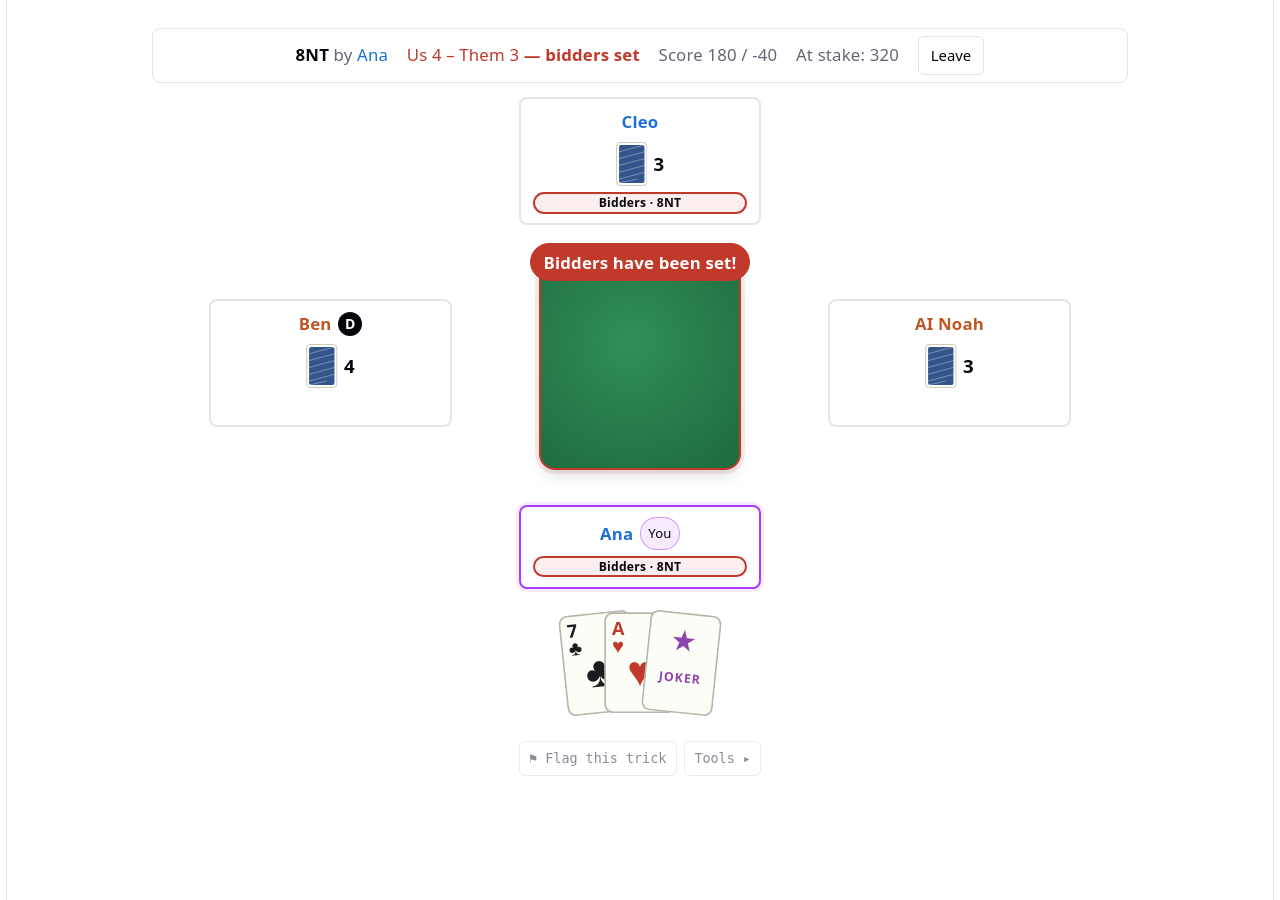
Test: joker lead suit picker (AC-1) › opens on tapping the joker to lead and submits the chosen jokerSuit
Click the button with class "hand-card" showing "★ JOKER": (681, 663) [640,609,722,717]
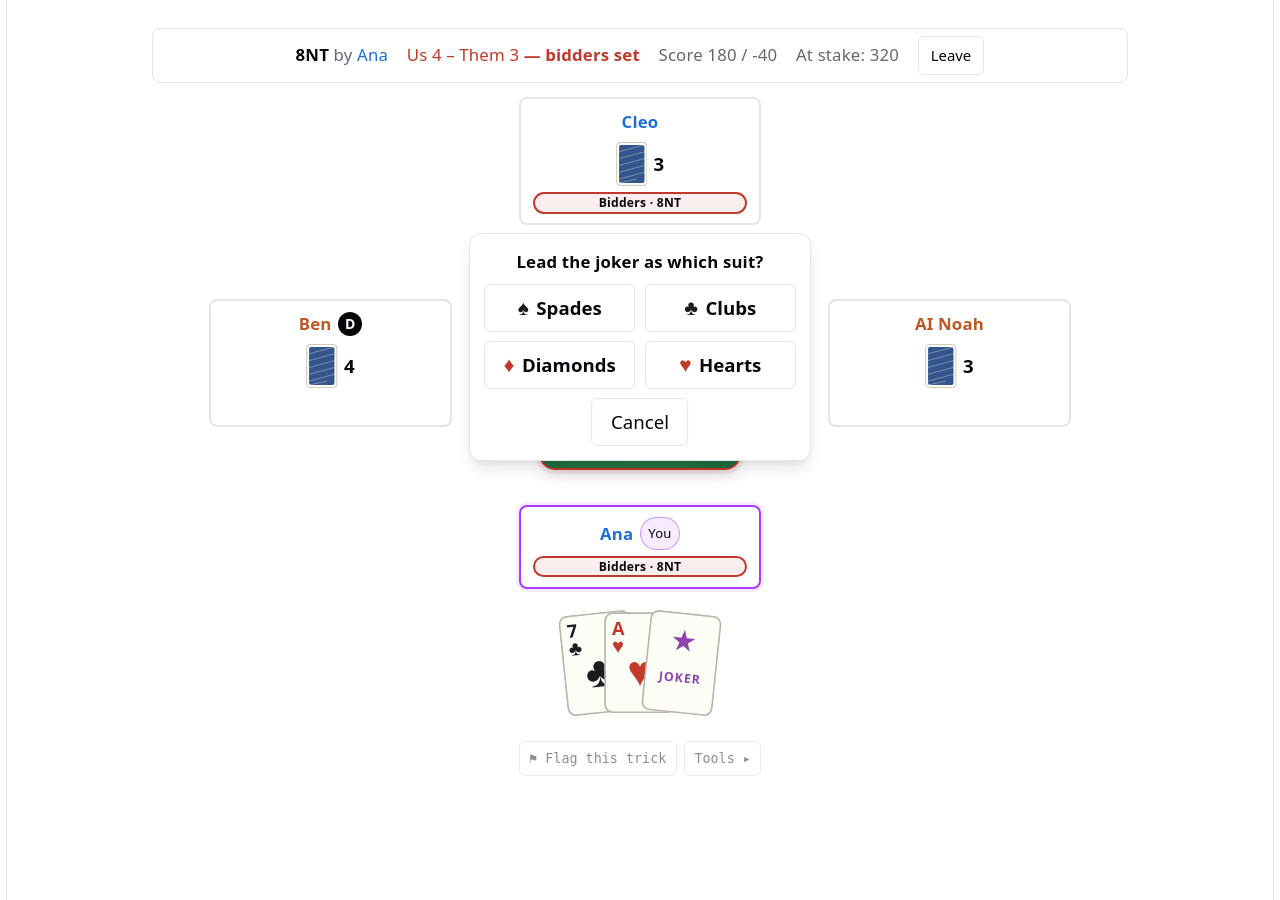
Click the button "♥ Hearts": (720, 365) [645,341,796,389]
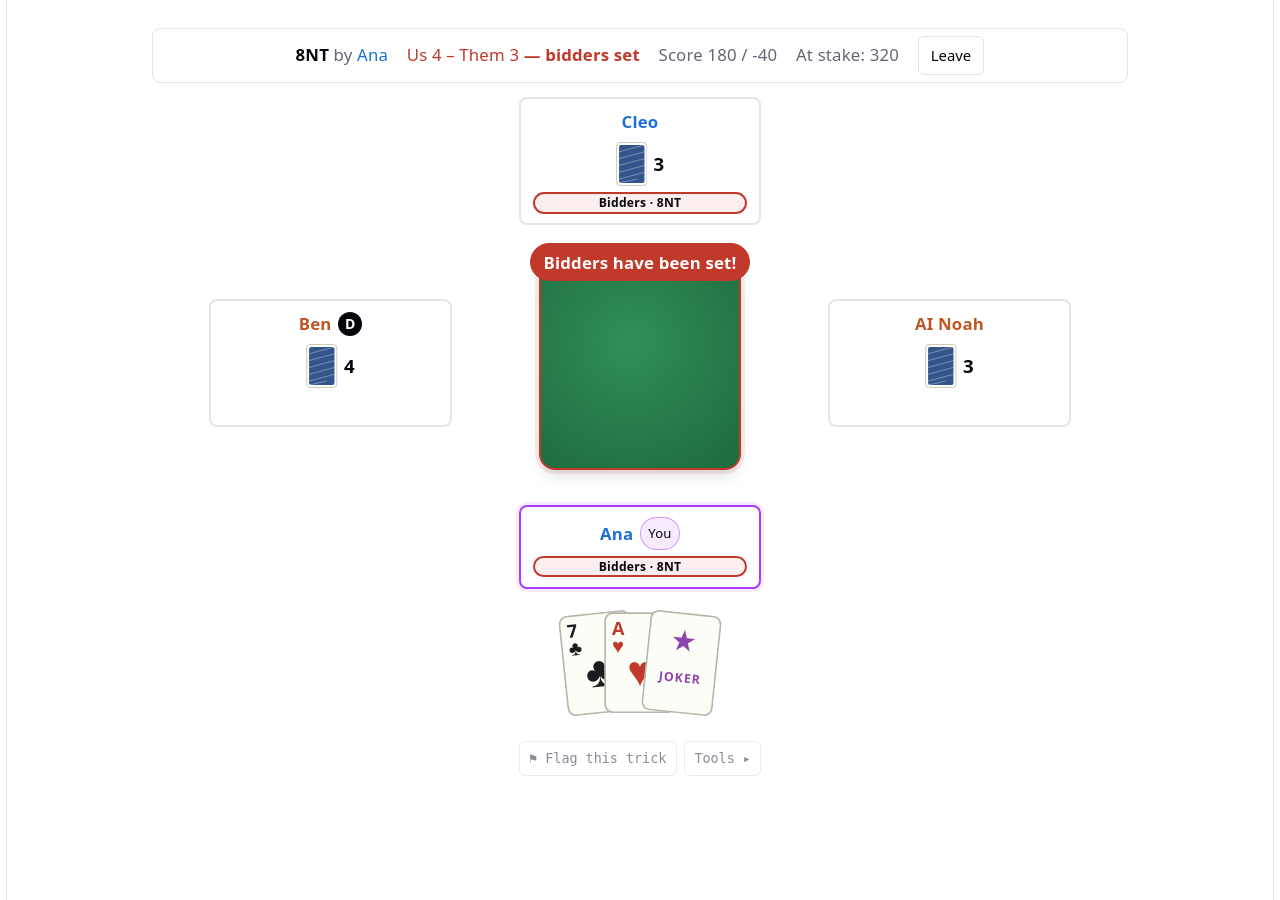
Check: the dialog with test id "joker-suit-picker" is gone
